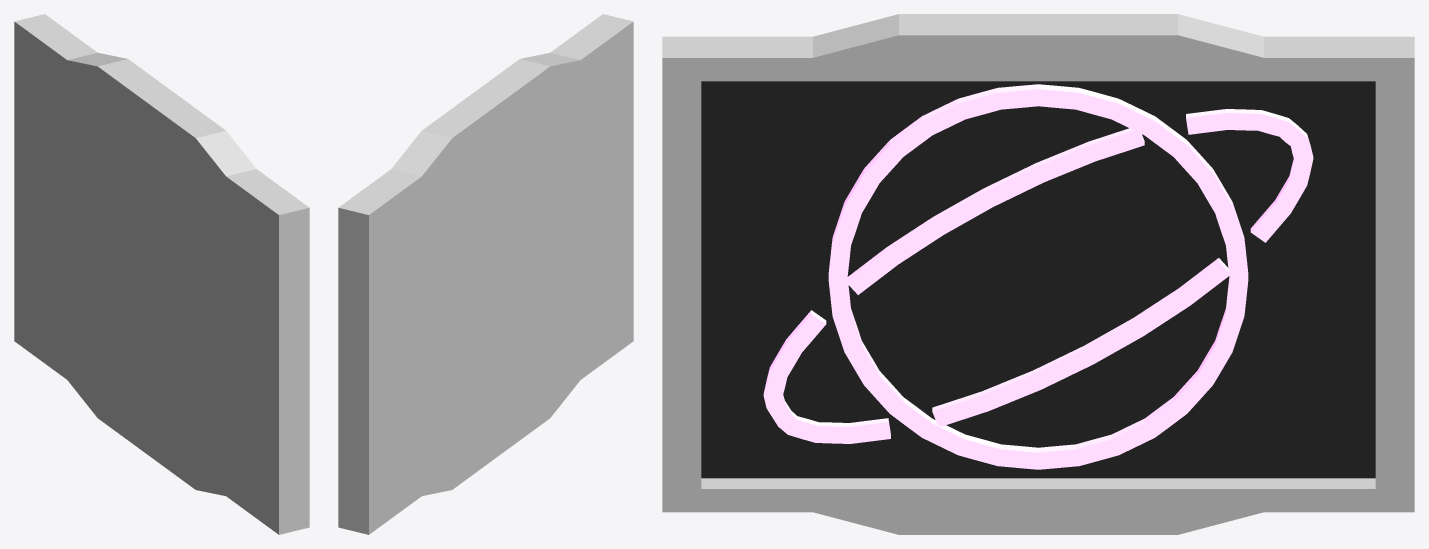
File: Insegna_Pianeta.fbx
The picture shows the model from 3 angles, left to right: view 1: azimuth 30°, elevation 25°; view 2: azimuth 150°, elevation 25°; view 3: azimuth 270°, elevation 25°; orthographic projection. The views are drawn at different scales.
Visible parts, largest first — view 1: Insegna; view 2: Insegna; view 3: Insegna, Circle, Circle.004, Circle.002, Circle.003, Circle.001.
Boxes of the visible parts, x1,y1,x2,y2 form: Insegna: [14, 14, 309, 534]; Insegna: [338, 14, 633, 534]; Insegna: [662, 14, 1414, 534]; Circle: [828, 84, 1248, 469]; Circle.004: [932, 258, 1229, 426]; Circle.002: [847, 128, 1144, 294]; Circle.003: [1186, 109, 1313, 242]; Circle.001: [763, 310, 890, 443].
Bounding box in the file's own units: 0.1333 × 2 × 1.47.
